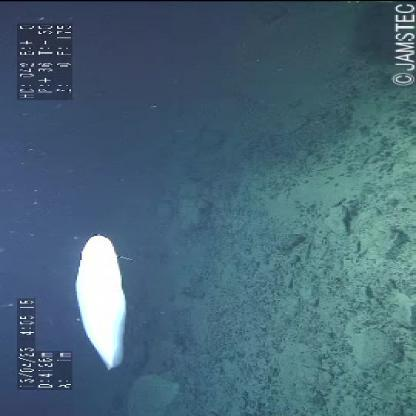Bio: (64, 234, 136, 374)
